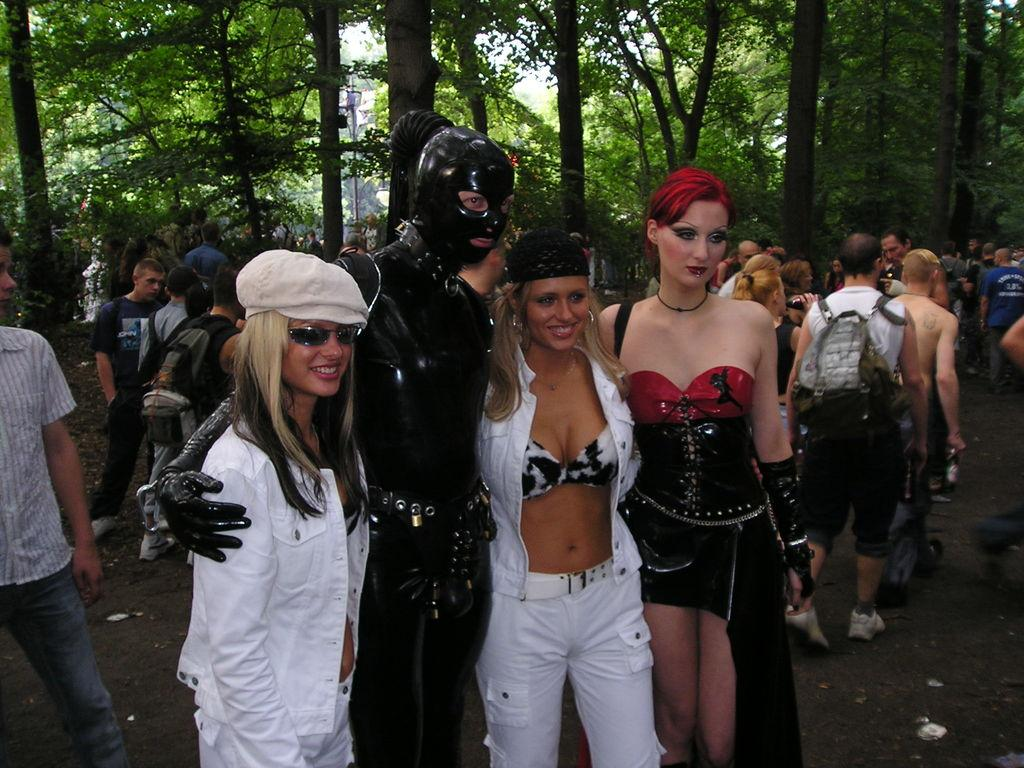Hat: (236, 248, 370, 326)
